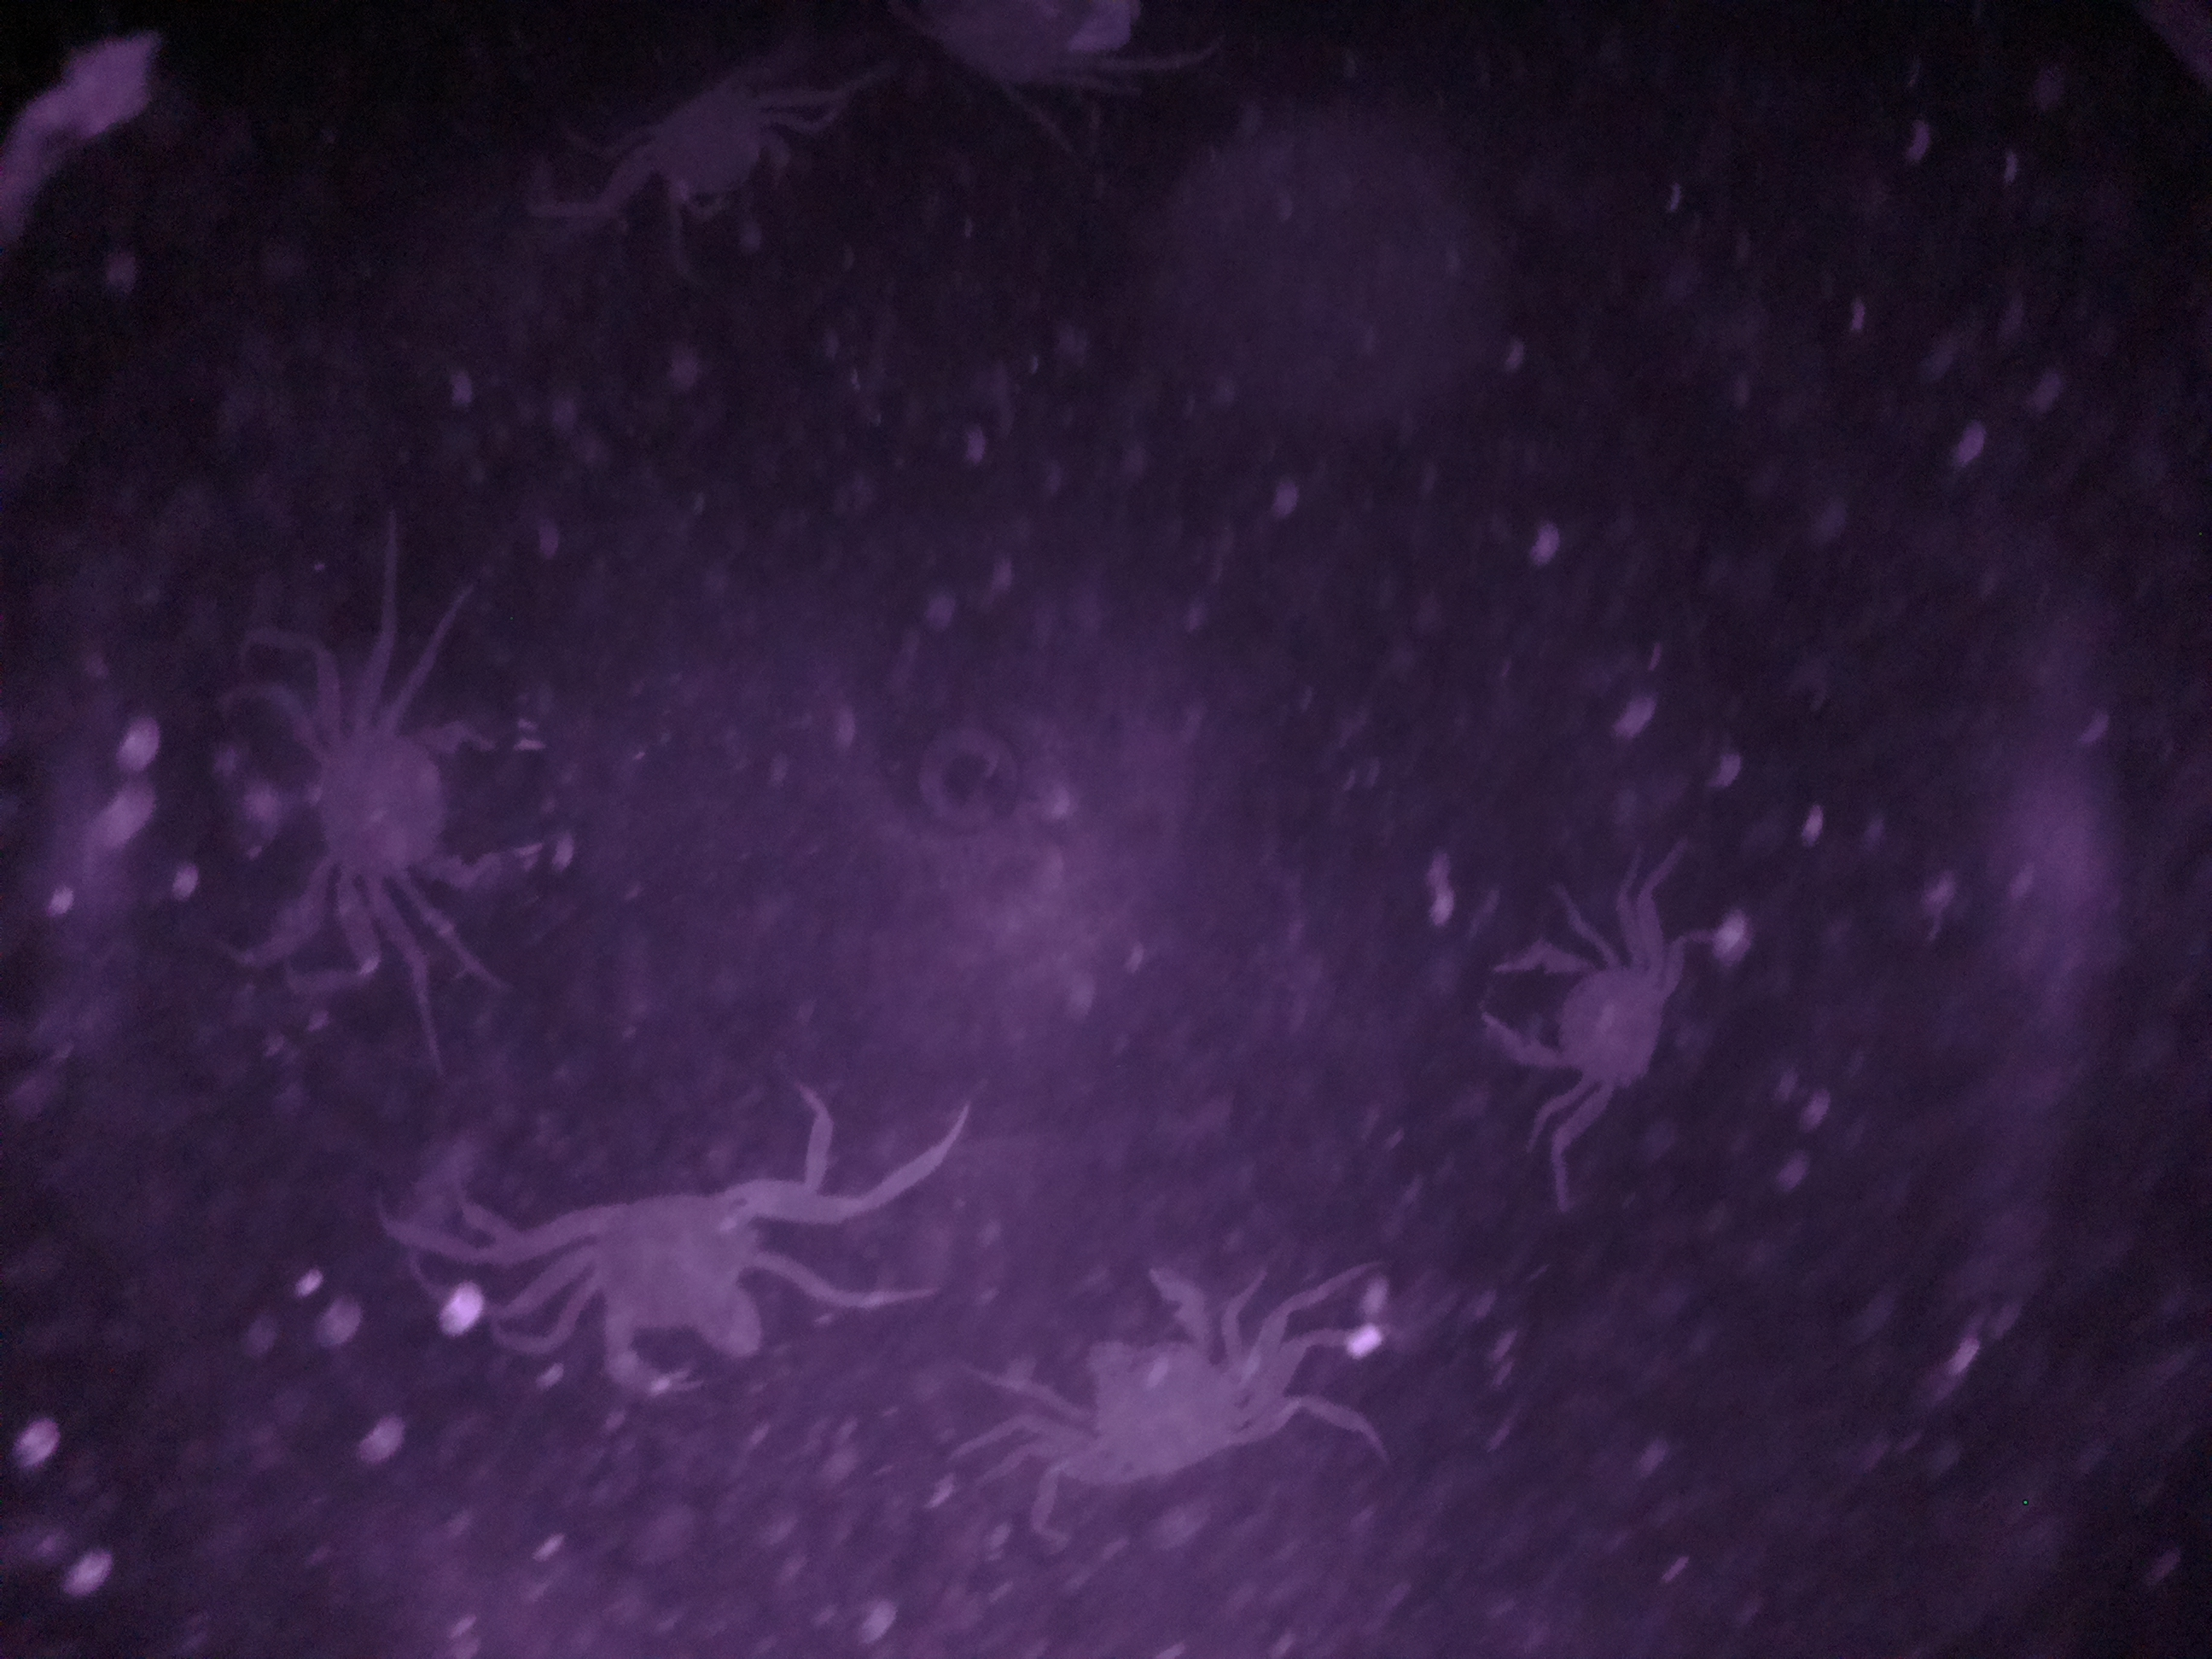Crab: (528, 1145, 815, 1406), (1022, 1249, 1289, 1504), (1435, 913, 1703, 1129), (618, 54, 843, 247)
